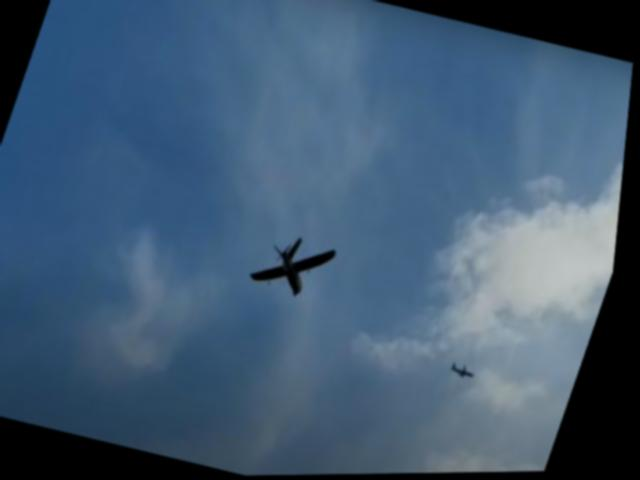uav: (241, 223, 349, 320), (446, 349, 492, 392)
